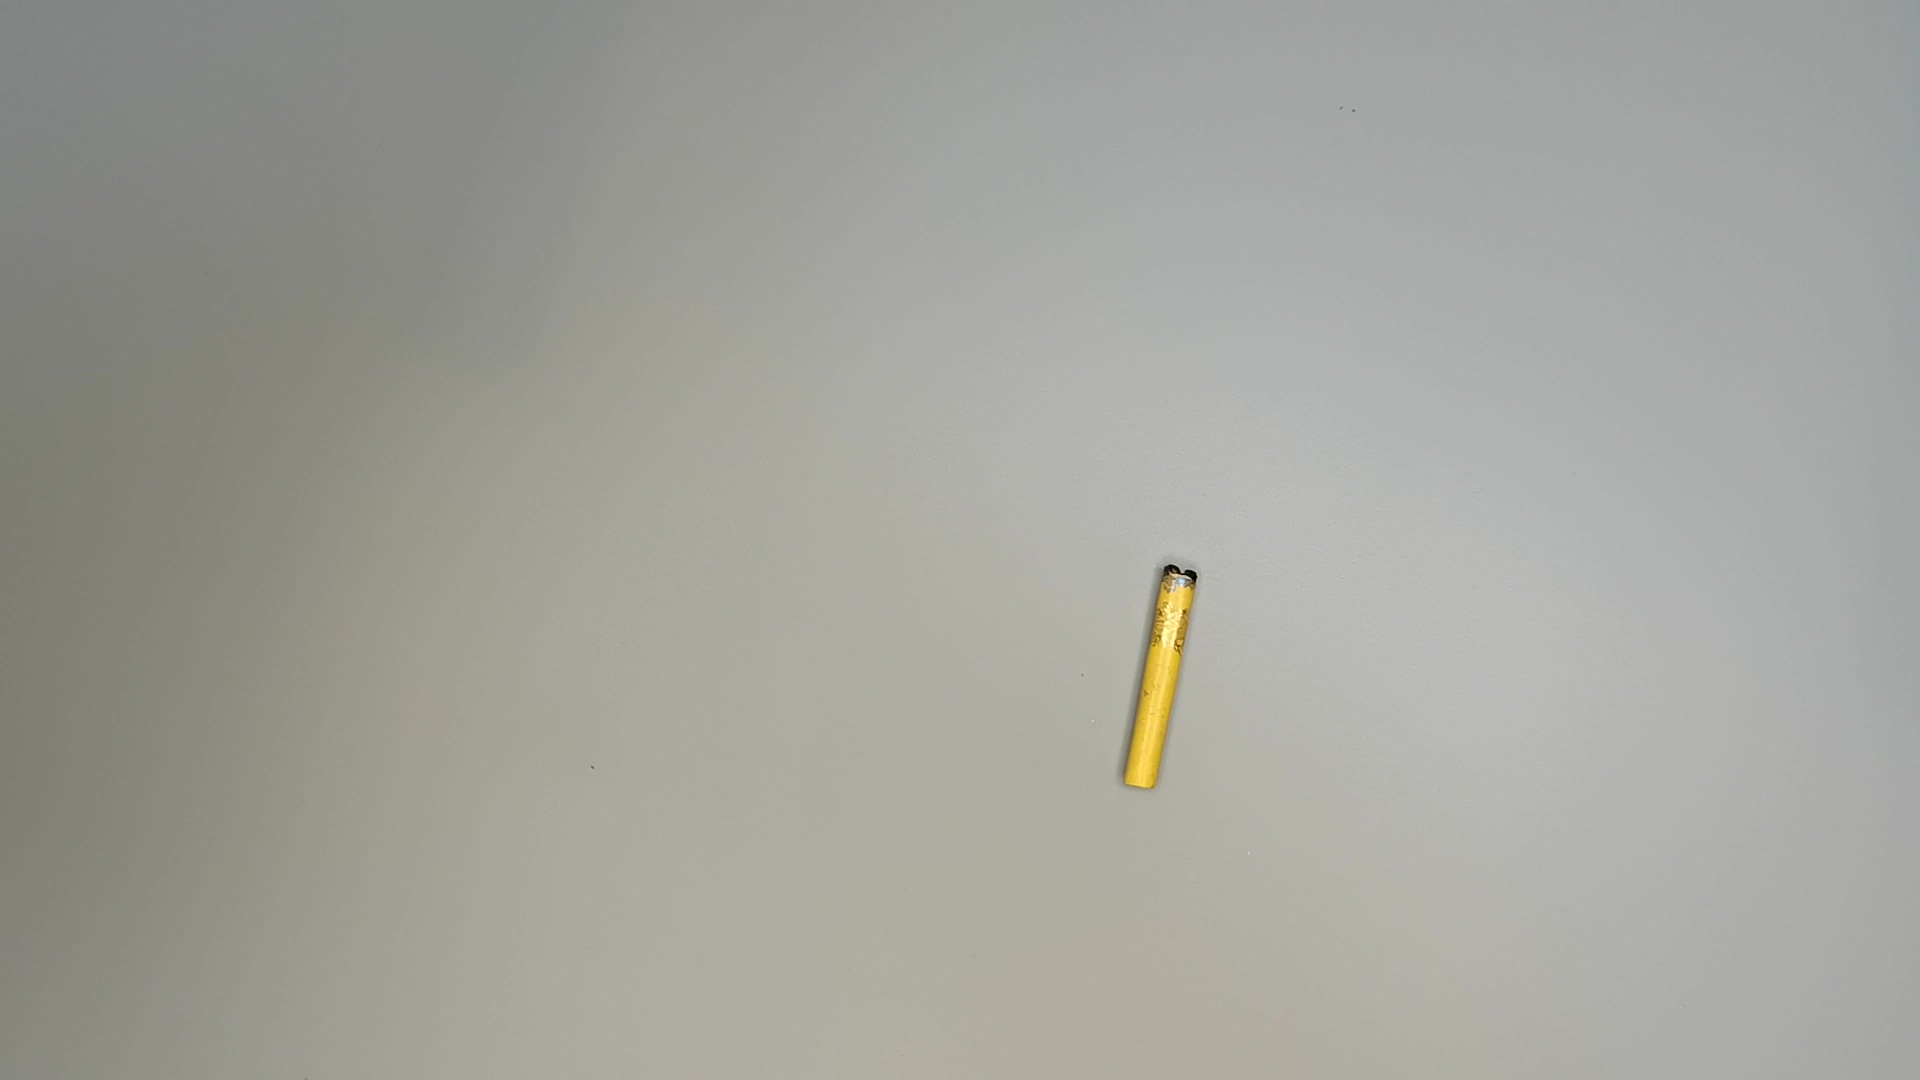cigarette: (1117, 553, 1203, 798)
